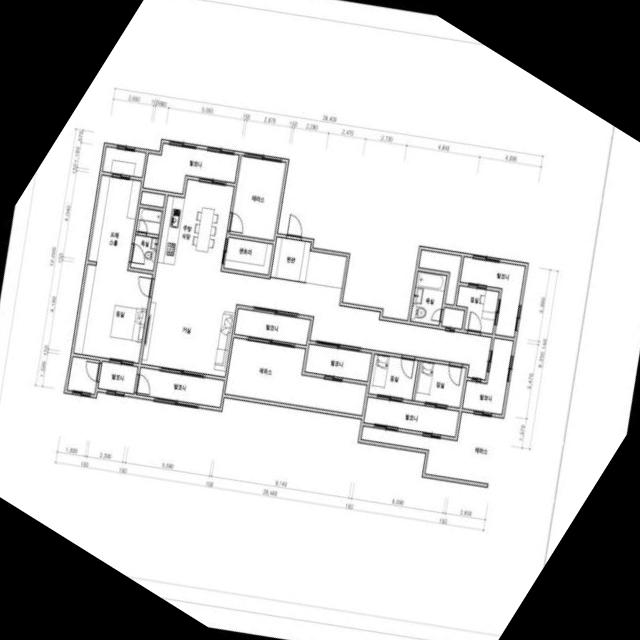background: (0, 0, 640, 640)
space_balconi: (224, 337, 366, 414), (361, 411, 503, 484), (460, 256, 524, 336), (143, 142, 238, 193), (229, 155, 285, 240), (462, 337, 513, 413), (363, 396, 458, 436), (136, 367, 223, 406), (234, 308, 310, 344), (304, 343, 371, 380), (98, 361, 137, 393)
space_bedroom: (73, 263, 152, 362), (414, 360, 465, 406), (368, 353, 417, 399), (456, 285, 498, 333)
space_dressroom: (88, 174, 140, 265)
space_front: (270, 236, 346, 287)
space_kitchen: (157, 178, 233, 271)
space_living_room: (141, 261, 491, 379)
space_other: (418, 249, 461, 304), (223, 236, 272, 274), (102, 146, 145, 176), (67, 356, 99, 393), (441, 307, 464, 328), (140, 191, 164, 206)
space_toilet: (410, 270, 446, 324), (130, 234, 157, 269), (136, 207, 162, 233)
